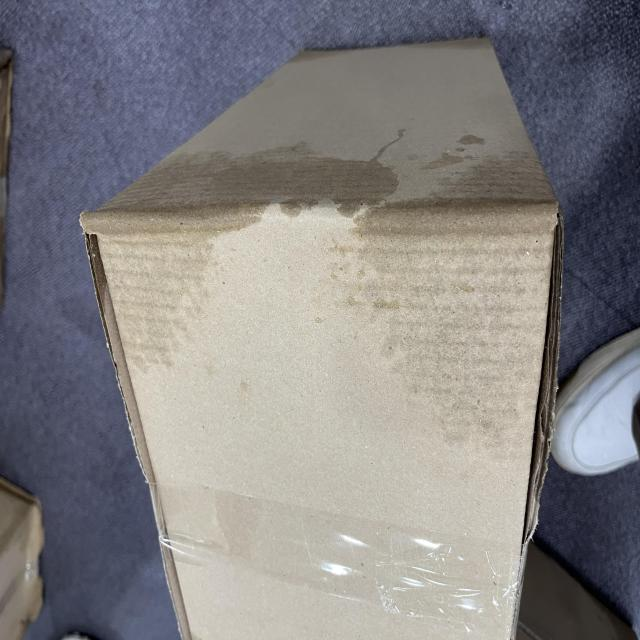wet: (175, 142, 390, 640)
